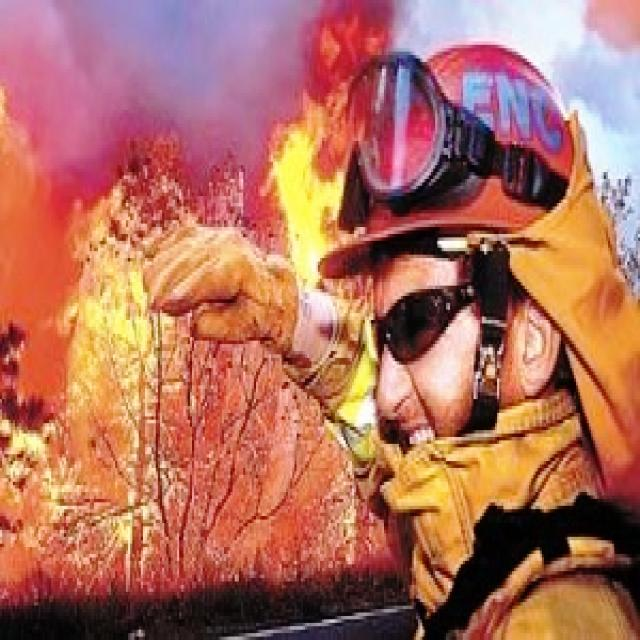api: (61, 146, 194, 581), (264, 1, 397, 297), (1, 402, 95, 541)
